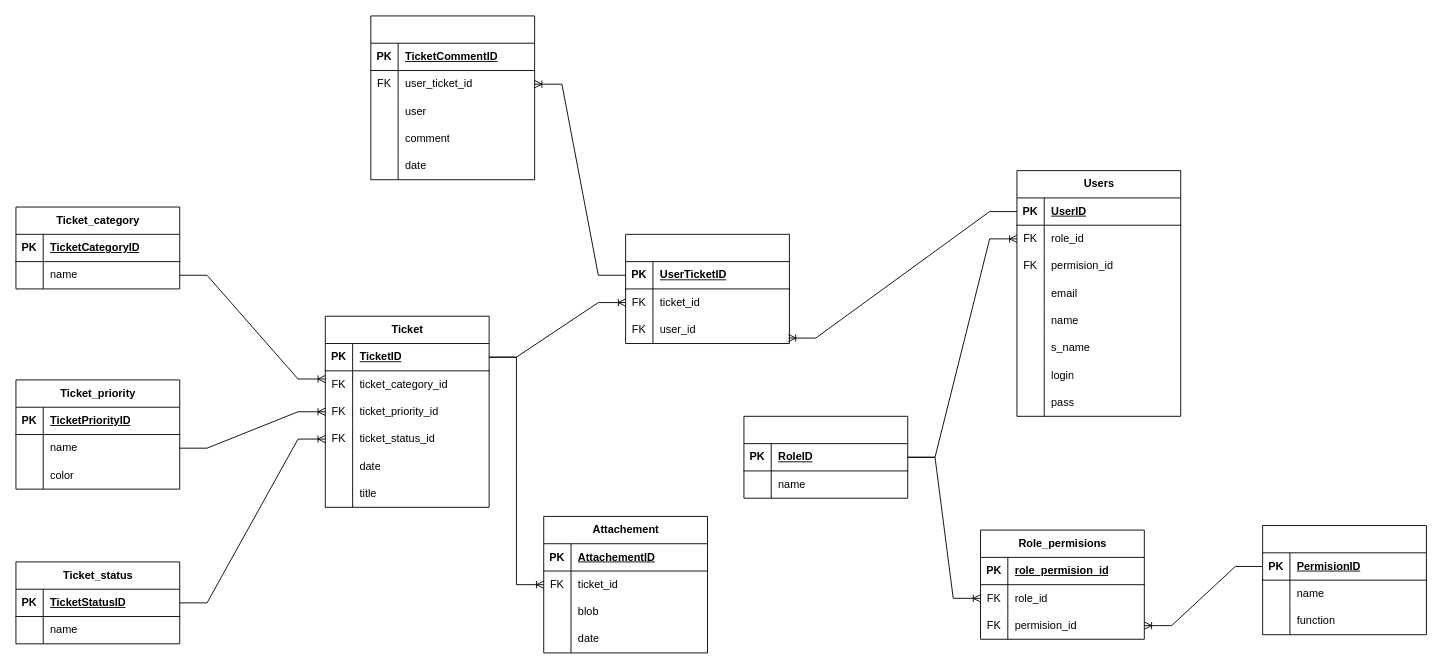
The diagram is 1442 pixels wide and 669 high, and some of its shapes have lost their labels. The box of each missing label's shape, as (x1, y1, x2, y2) in pixels:
Permisions: (1262, 525, 1426, 635)
Roles: (743, 415, 908, 498)
Ticket_comments: (370, 15, 535, 180)
User_tickets: (625, 233, 789, 344)
